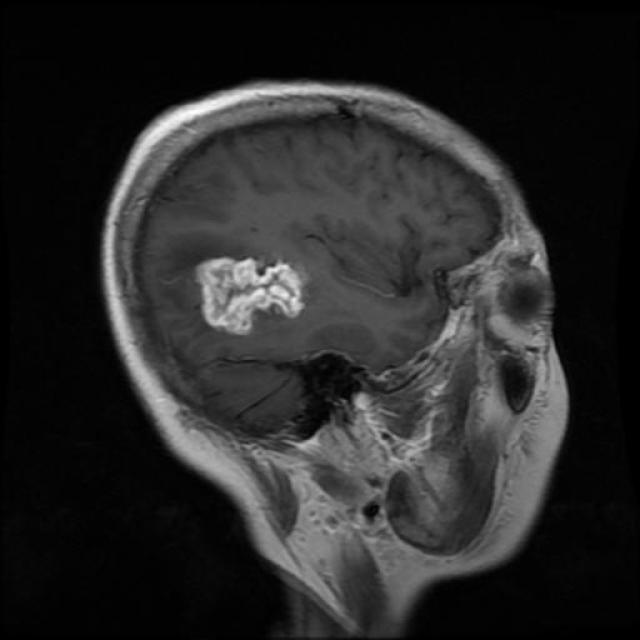glioma: (196, 258, 306, 332)
